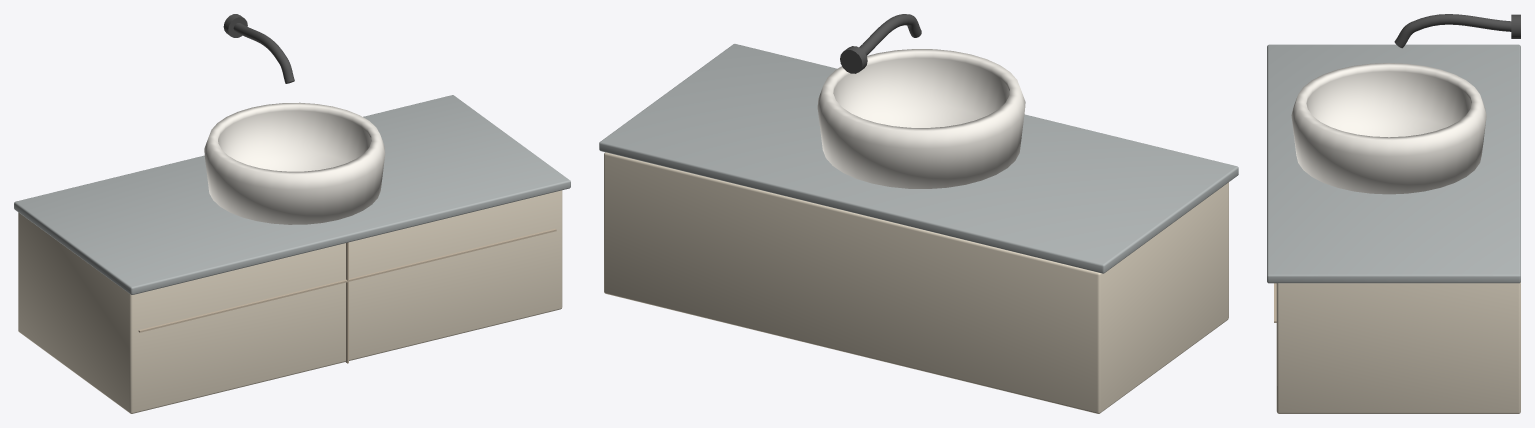
The model's file is sg_vanity_wide.glb.
3 renders of one model, left to right at view 1: azimuth 30°, elevation 25°; view 2: azimuth 150°, elevation 25°; view 3: azimuth 270°, elevation 25°, orthographic. The views are drawn at different scales.
Parts seen in each view (by area): view 1: body, top, basin, gaph, spout; view 2: body, top, basin, spout, mixer; view 3: top, body, basin, spout, mixer.
Part boxes in pixels (x1,y1,x2,y2): body: (18, 190, 562, 413); top: (14, 95, 570, 294); basin: (204, 102, 385, 224); gaph: (138, 228, 556, 332); spout: (233, 23, 294, 83); body: (604, 152, 1228, 413); top: (599, 44, 1238, 273); basin: (817, 49, 1025, 188); spout: (849, 14, 921, 66); mixer: (840, 46, 867, 73); top: (1267, 44, 1520, 283); body: (1276, 282, 1520, 413); basin: (1291, 63, 1486, 194); spout: (1394, 14, 1511, 48); mixer: (1511, 14, 1520, 38).
Size of the model in its own units: 1.12 by 0.6481 by 0.52.
